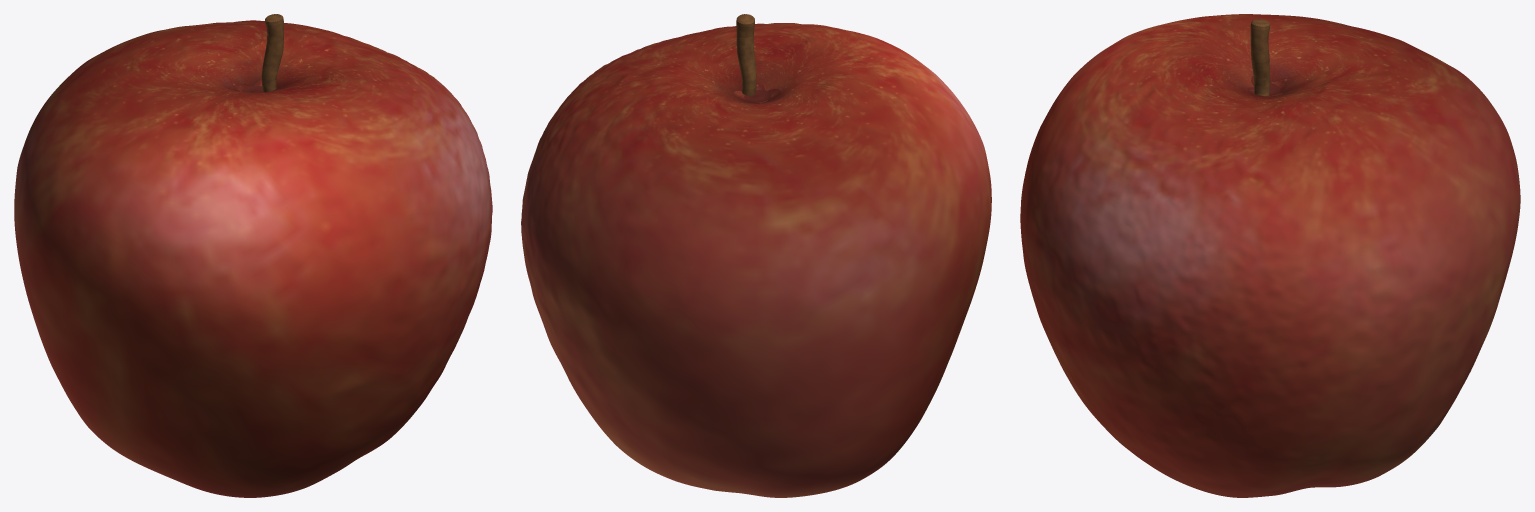
Rendered from apple.glb.
3 renders of one model, left to right at view 1: azimuth 30°, elevation 25°; view 2: azimuth 150°, elevation 25°; view 3: azimuth 270°, elevation 25°, orthographic. The views are drawn at different scales.
Visible parts, largest first — view 1: apple, main stem; view 2: apple, main stem; view 3: apple, main stem.
Boxes of the visible parts, left/top/right/bottom form: apple: left=14, top=20, right=492, bottom=497; main stem: left=261, top=14, right=283, bottom=92; apple: left=521, top=23, right=991, bottom=497; main stem: left=736, top=14, right=756, bottom=95; apple: left=1020, top=14, right=1520, bottom=497; main stem: left=1250, top=19, right=1269, bottom=96.
Bounding box in the file's own units: 1.96 × 1.99 × 1.98.
Materials: 2 (2 with a texture image).
